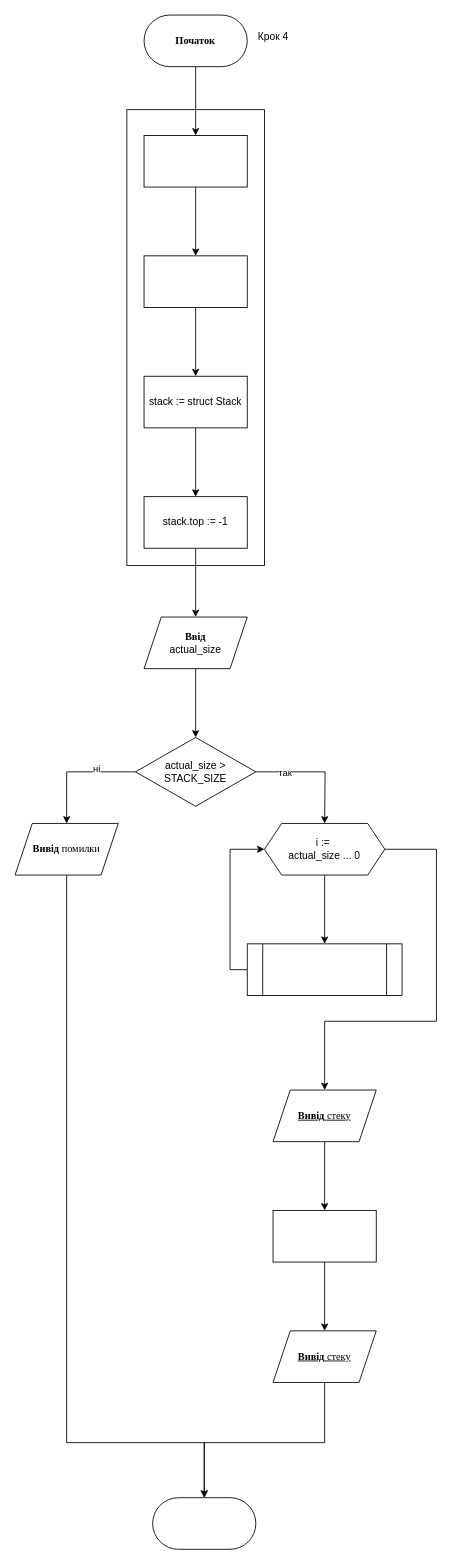
The diagram is 458 pixels wide and 1564 high, and some of its shapes have lost their labels. Here are the shapes that lost their labels. From the top down, the centre of each, then its label:
At point 195,161: "STACK_SIZE := 15".
At point 195,281: "elements := [...]".
At point 324,969: "stack_push(&stack, element[i])".
At point 324,1236: "Видалити елементи у стеку до мінімального елемента".
At point 204,1523: "Кінець".
